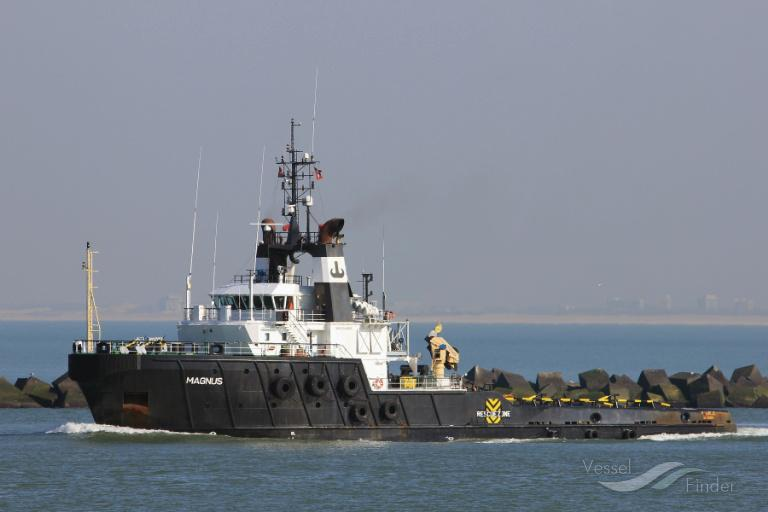OCR: (180, 365, 227, 392)
